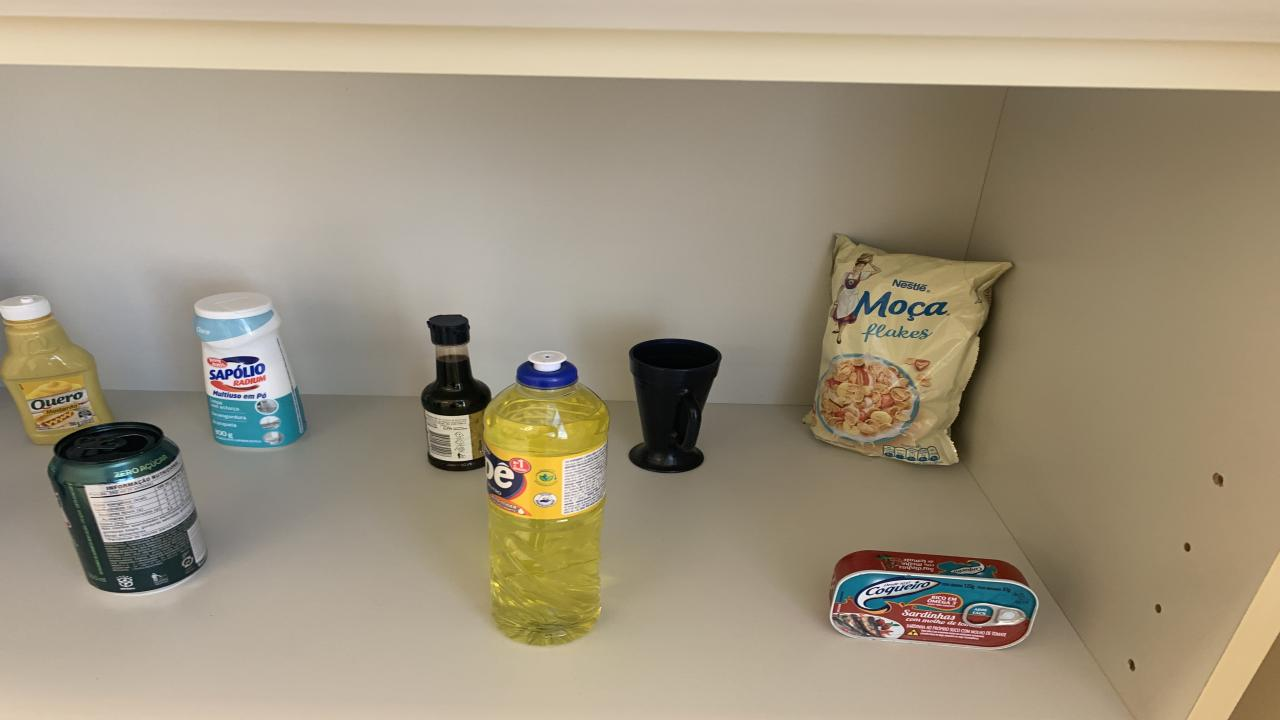Cleaner-Cleanup_Items: (195, 292, 308, 448)
Detergent-Cleanup_Items: (485, 351, 610, 645)
English_Sauce-Pantry_Items: (420, 315, 492, 471)
Flakes-Snacks: (802, 234, 1010, 465)
Guarana_Can-Drinks: (48, 422, 208, 592)
Mustard-Pantry_Items: (0, 294, 115, 444)
Tuna_Can-Pantry_Items: (830, 551, 1038, 649)
